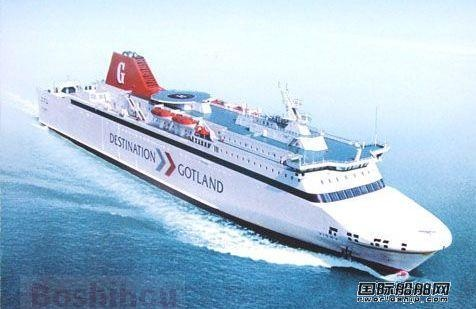youlun: (36, 46, 453, 274)
